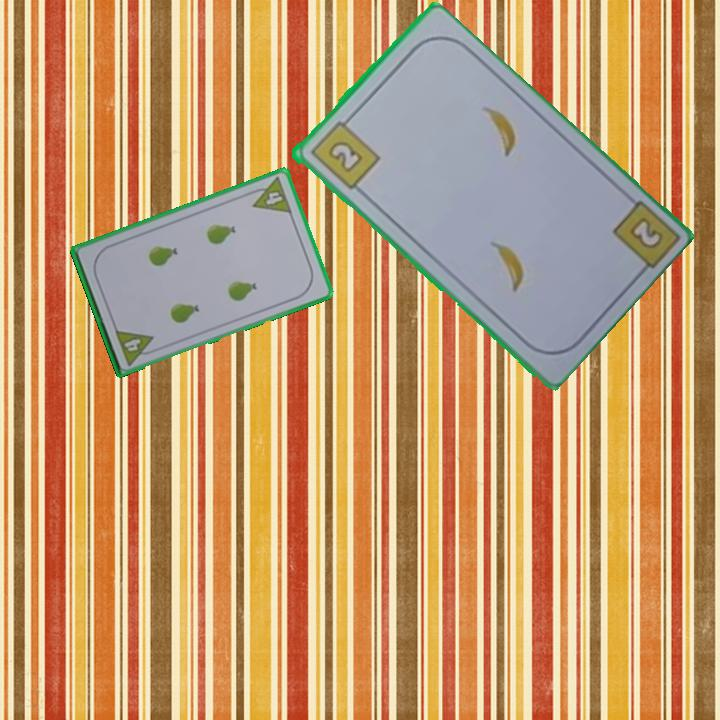2b: (306, 112, 382, 193), (625, 213, 666, 253)
4p: (245, 173, 295, 216), (111, 325, 160, 368)
